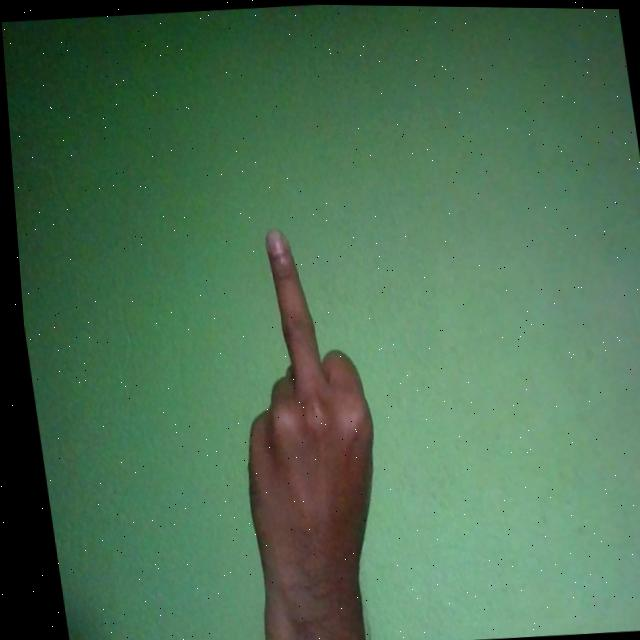Middle Finger: (207, 221, 394, 639)
